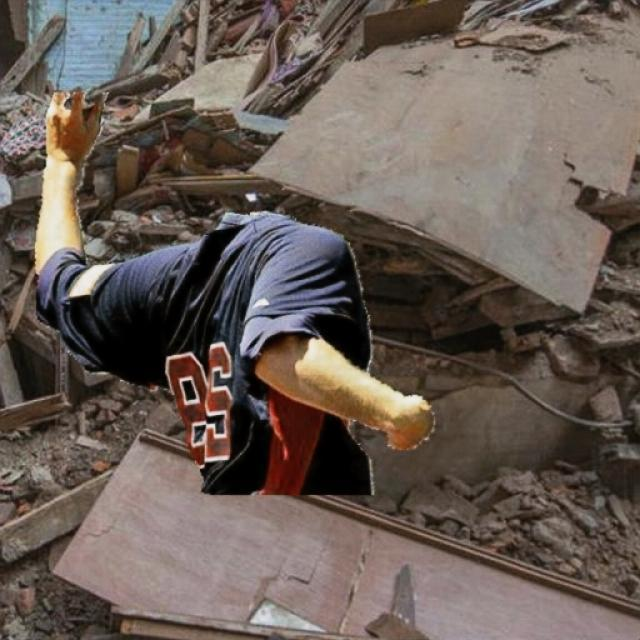Person in Rubble: (35, 92, 435, 494)
